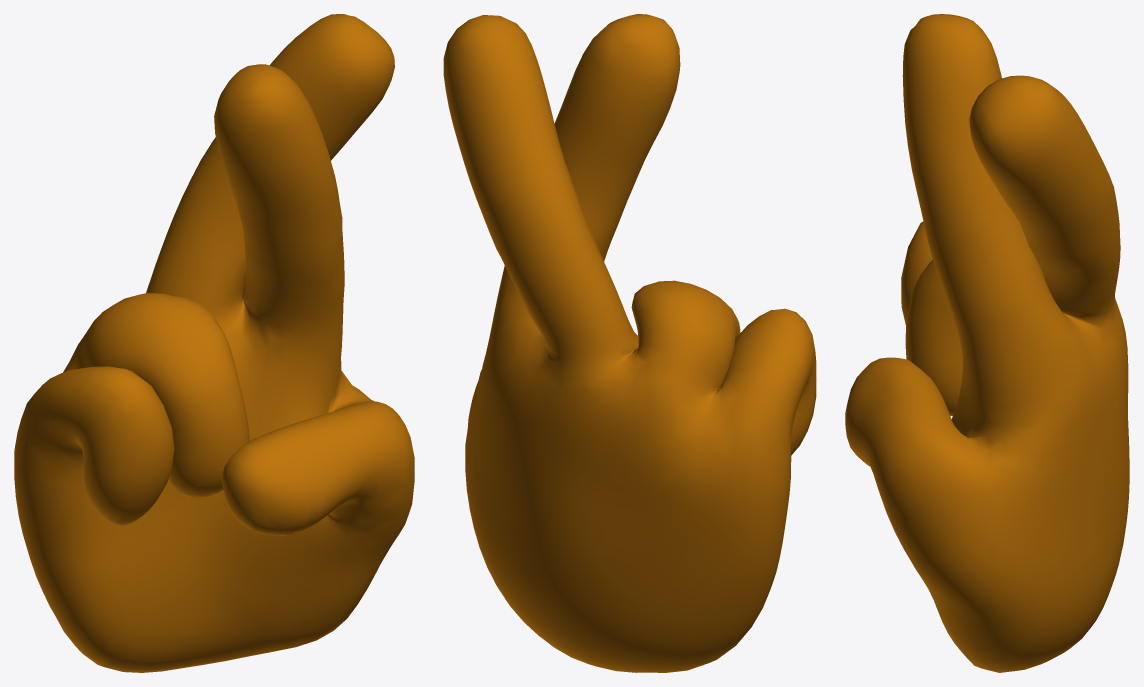
The model's file is Cross Finger.FBX.
3 views of the same model, side by side, from view 1: azimuth 30°, elevation 25°; view 2: azimuth 150°, elevation 25°; view 3: azimuth 270°, elevation 25° (orthographic). The views are drawn at different scales.
Visible parts, largest first — view 1: Group17248; view 2: Group17248; view 3: Group17248.
Part boxes in pixels (x1=…): Group17248: x1=14, y1=14, x2=414, y2=672; Group17248: x1=443, y1=14, x2=816, y2=672; Group17248: x1=845, y1=14, x2=1129, y2=672.
Bounding box in the file's own units: 8.82 × 14.73 × 6.
